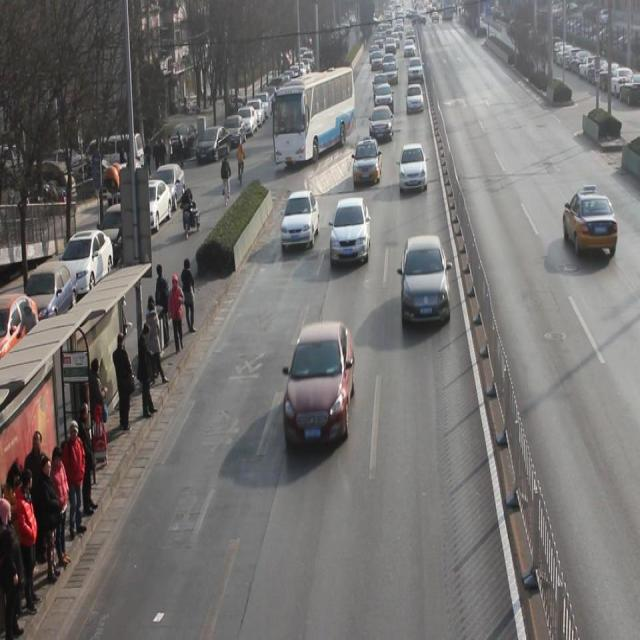car: (284, 321, 357, 453), (400, 235, 450, 328), (563, 189, 618, 258), (330, 197, 372, 268), (281, 190, 321, 252), (398, 142, 428, 192), (353, 139, 382, 187), (370, 104, 394, 146), (373, 84, 395, 115), (405, 82, 424, 114)
van: (274, 65, 357, 165)
